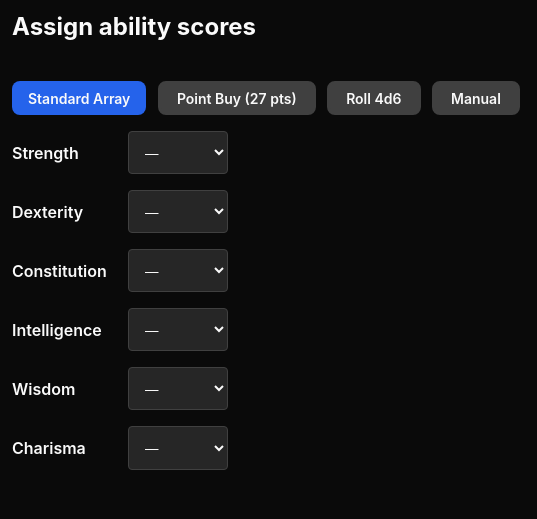
Test: AbilitiesStep › method switching › switches to roll mode and shows Roll Abilities button
Click the button "Roll 4d6" at (374, 98), box x1=327 y1=81 x2=420 y2=115
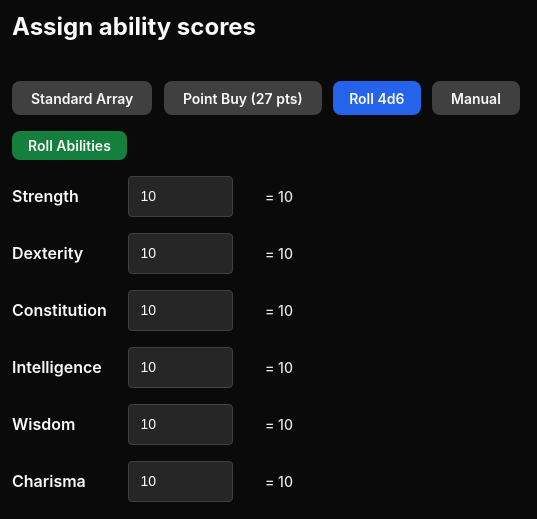
Now the button "Roll Abilities" is shown, box x1=12 y1=131 x2=127 y2=160
